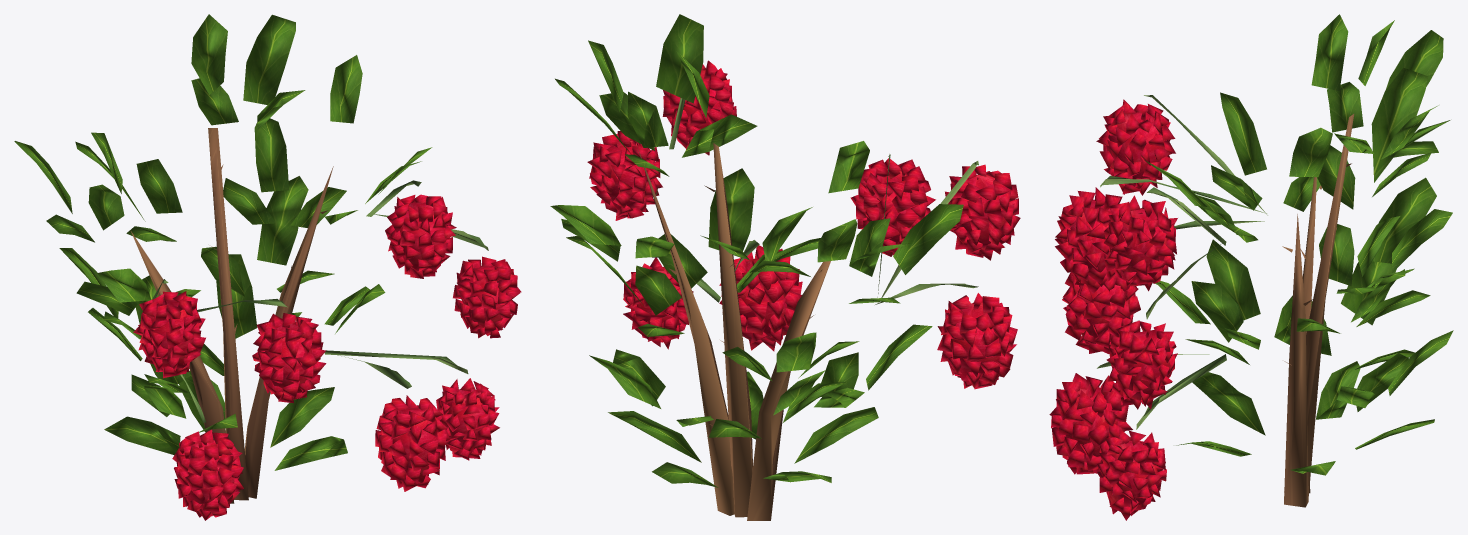
File: NP_Raspberry_Ready_LOD1.fbx
The picture shows the model from 3 angles, left to right: view 1: azimuth 30°, elevation 25°; view 2: azimuth 150°, elevation 25°; view 3: azimuth 270°, elevation 25°; orthographic projection. The views are drawn at different scales.
Visible parts, largest first — view 1: NP_Raspberry_Ready; view 2: NP_Raspberry_Ready; view 3: NP_Raspberry_Ready.
Boxes of the visible parts, left/top/right/bottom form: NP_Raspberry_Ready: left=14, top=14, right=521, bottom=520; NP_Raspberry_Ready: left=550, top=14, right=1020, bottom=520; NP_Raspberry_Ready: left=1049, top=14, right=1453, bottom=520.
Bounding box in the file's own units: 90.72 × 103 × 77.69.
